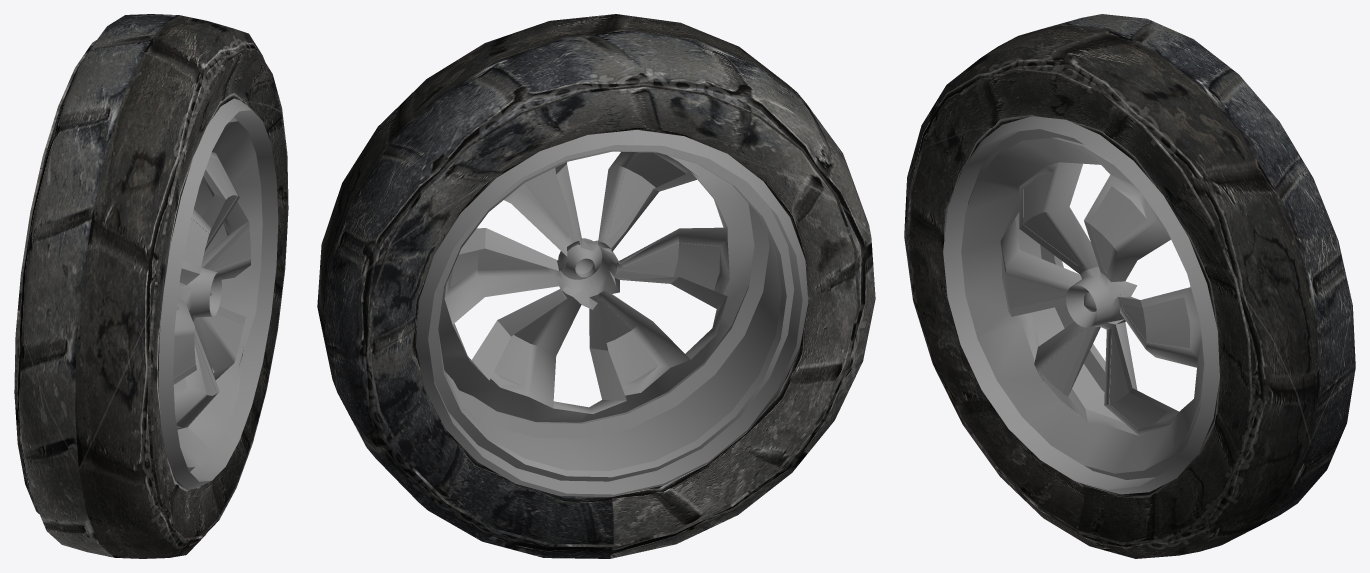
3 renders of one model, left to right at view 1: azimuth 30°, elevation 25°; view 2: azimuth 150°, elevation 25°; view 3: azimuth 270°, elevation 25°, orthographic. The views are drawn at different scales.
Parts seen in each view (by area): view 1: llanta, rin, rin_2; view 2: llanta, rin, rin_2; view 3: llanta, rin, rin_2.
Boxes of the visible parts, x1=… form: llanta: x1=14, y1=14, x2=288, y2=558; rin: x1=173, y1=121, x2=262, y2=467; rin_2: x1=158, y1=98, x2=278, y2=489; llanta: x1=317, y1=14, x2=875, y2=558; rin: x1=438, y1=152, x2=754, y2=422; rin_2: x1=416, y1=130, x2=808, y2=496; llanta: x1=904, y1=14, x2=1355, y2=558; rin: x1=961, y1=137, x2=1204, y2=473; rin_2: x1=943, y1=116, x2=1219, y2=494.
Size of the model in its own units: 229 by 269 by 222.
Materials: 2 (1 with a texture image).
